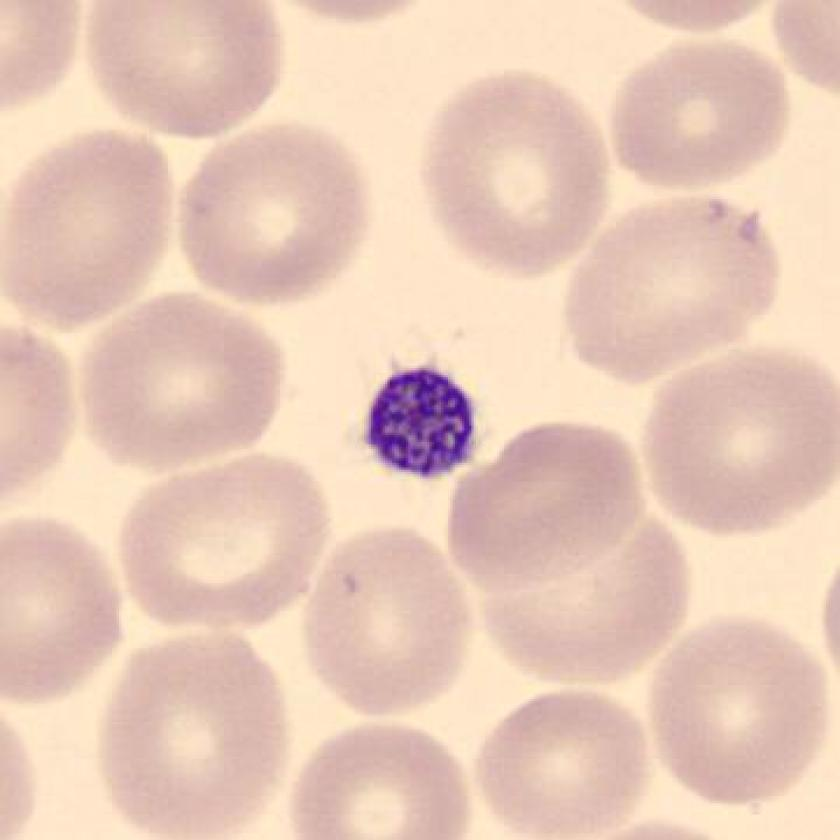platelets: (356, 358, 493, 490)
